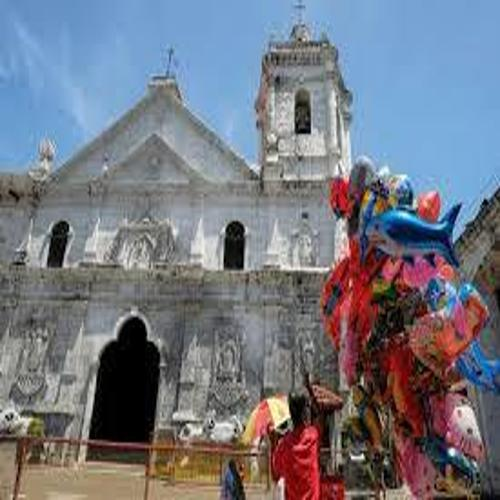Sto. Nino Basilica Church: (31, 5, 360, 465)
